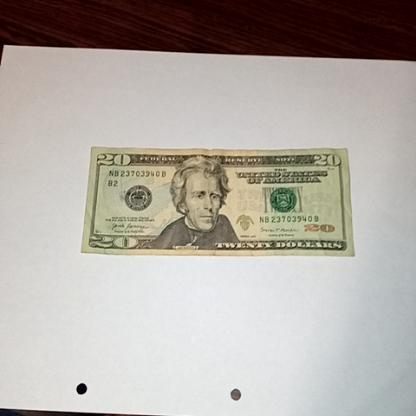twenty-front: (84, 147, 353, 260)
